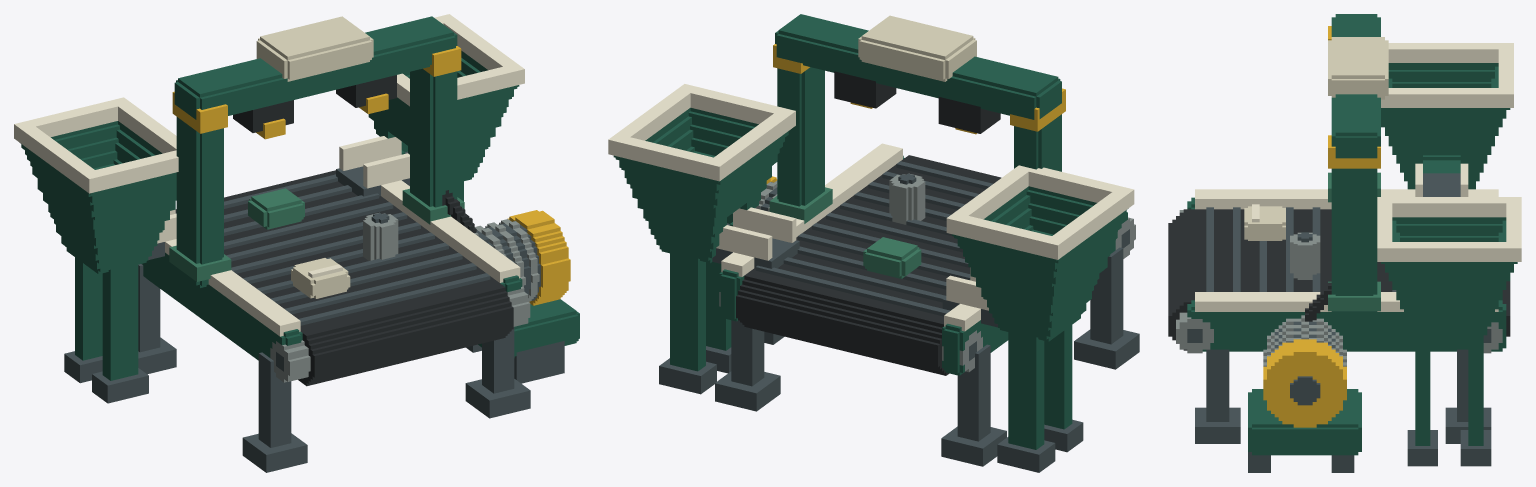
File: sorting_machine.glb
The picture shows the model from 3 angles, left to right: view 1: azimuth 30°, elevation 25°; view 2: azimuth 150°, elevation 25°; view 3: azimuth 270°, elevation 25°; orthographic projection. The views are drawn at different scales.
Parts seen in each view (by area): view 1: sorting_machine; view 2: sorting_machine; view 3: sorting_machine.
Boxes of the visible parts, <box> form: sorting_machine: <box>14,14,579,472</box>; sorting_machine: <box>608,14,1139,472</box>; sorting_machine: <box>1168,14,1521,472</box>.
Bounding box in the file's own units: 5.76 × 4.28 × 4.18.
